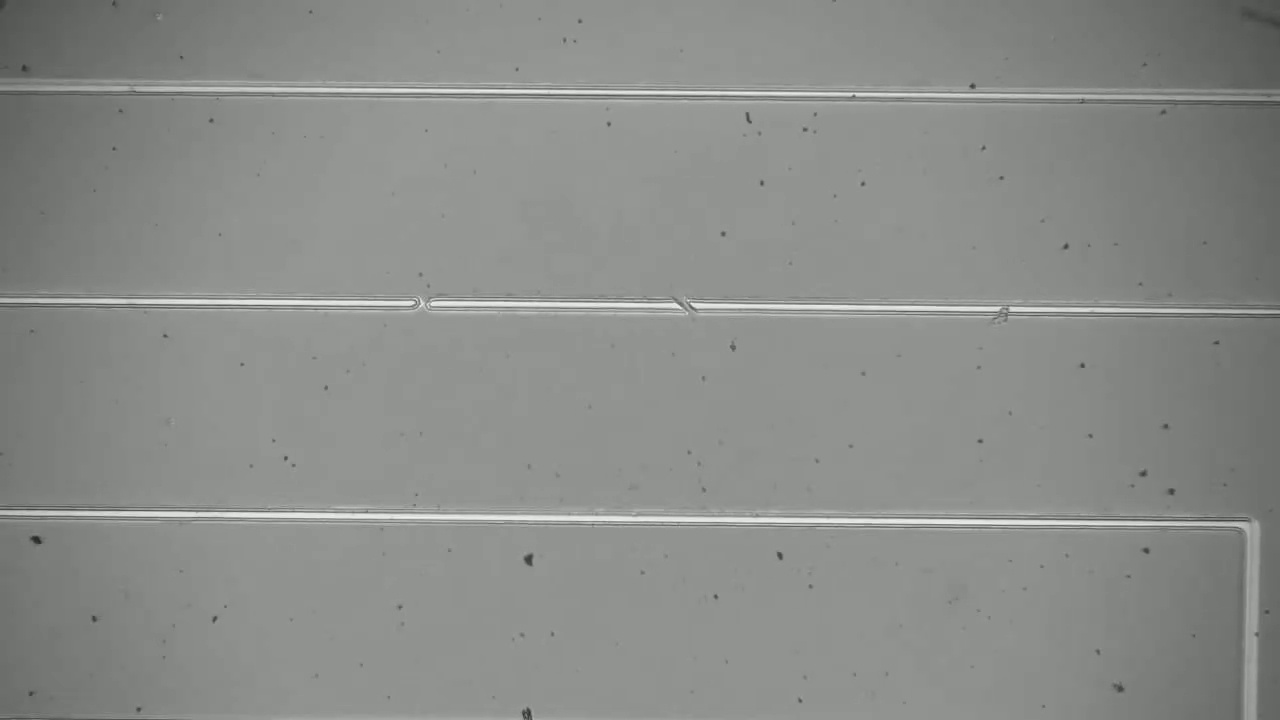open: (664, 283, 709, 325), (403, 282, 443, 320)
stains_enbedded: (981, 290, 1020, 336)
